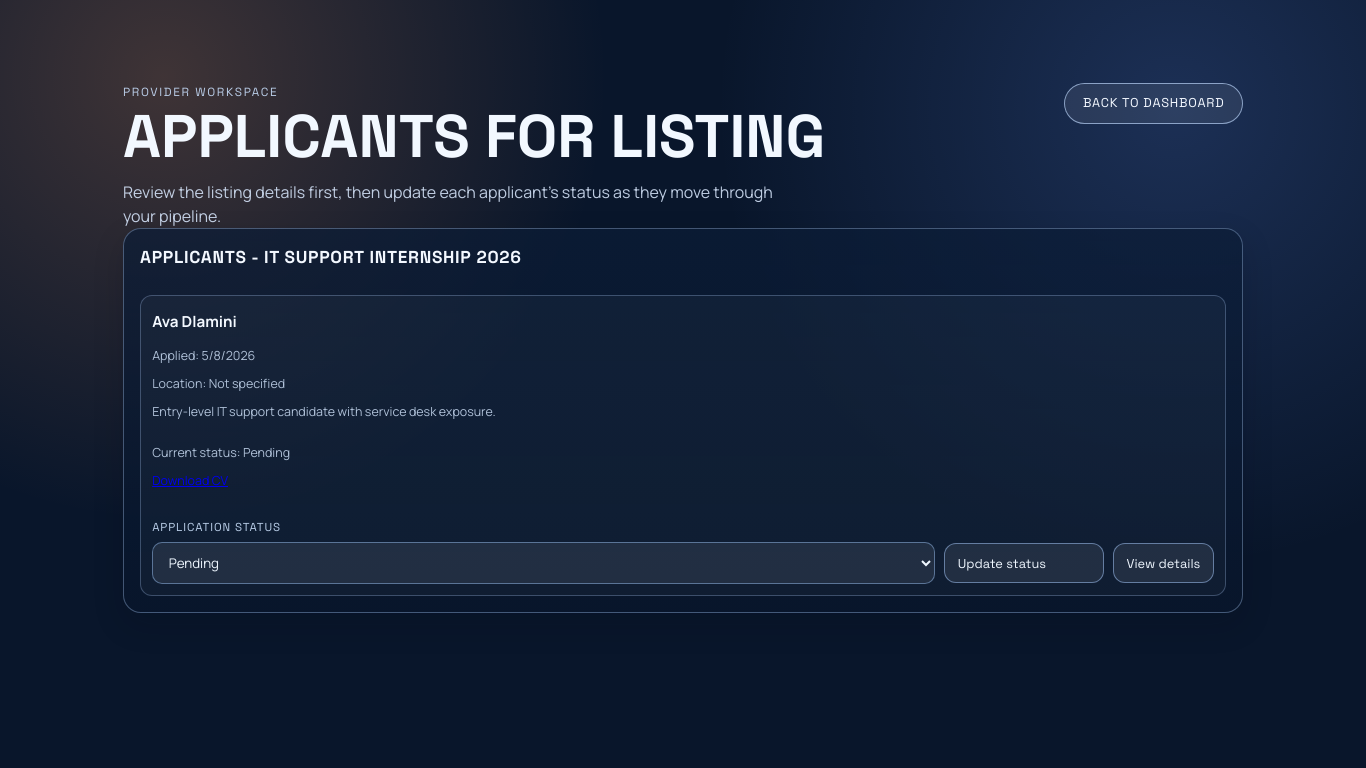
Test: Provider manage application statuses acceptance tests › 5. The visible application status updates after saving the provider action
Check: the text "Ava Dlamini" is shown, box [152,311,237,332]
Select "Rejected" in the dropdown named "Application status for Ava Dlamini" at (544, 563), box [152,542,936,584]
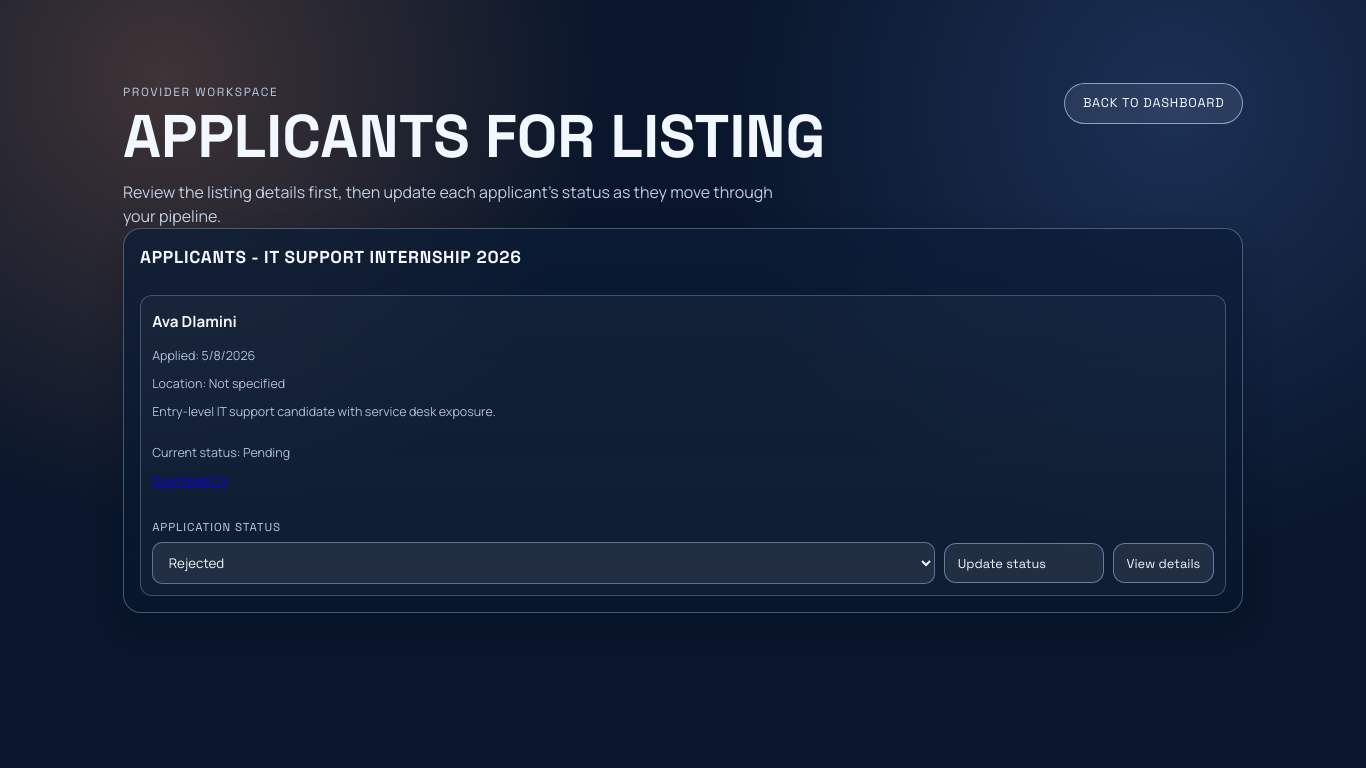
Click the button "Update status" at (1024, 563), box [944,543,1104,583]
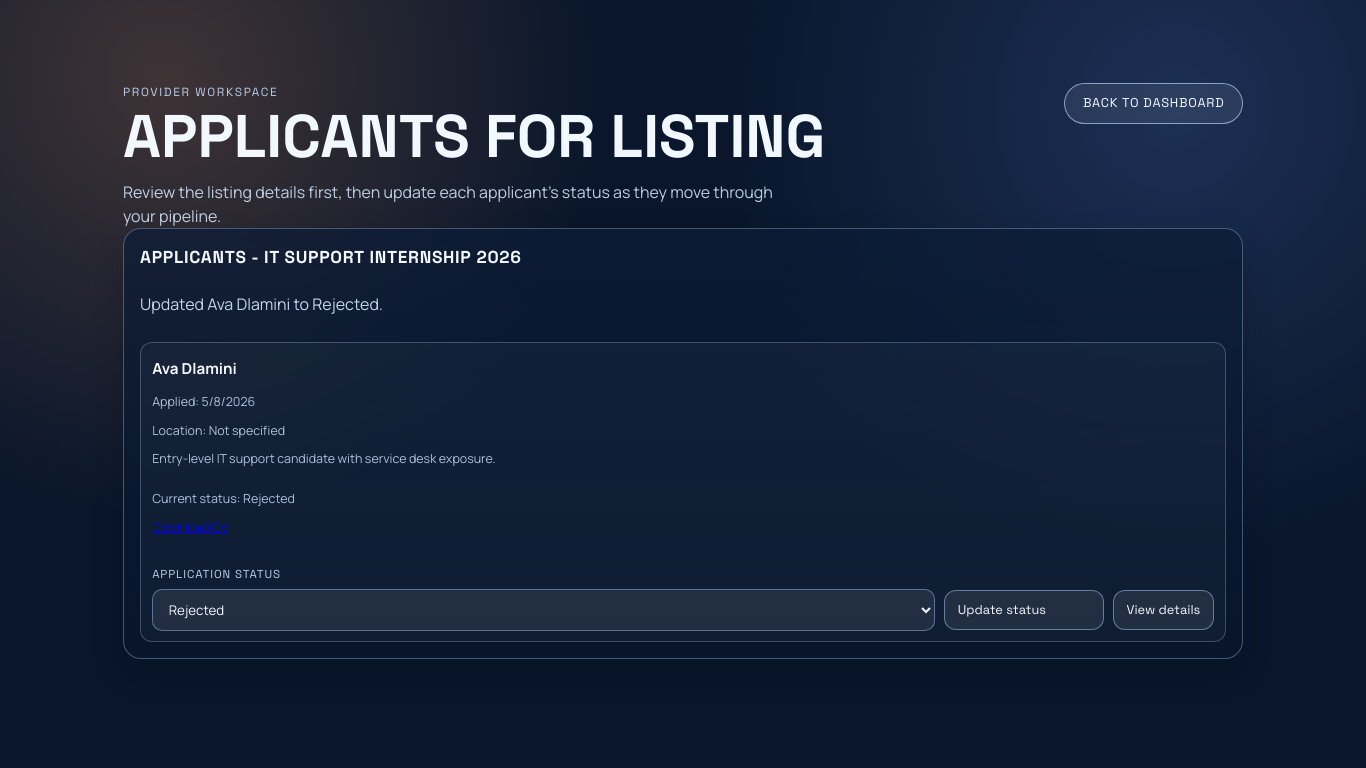
Check: the text "Current status: Rejected" is shown, box [152,490,295,507]
Check: the text "Updated Ava Dlamini to Rejected." is shown, box [140,293,383,315]
